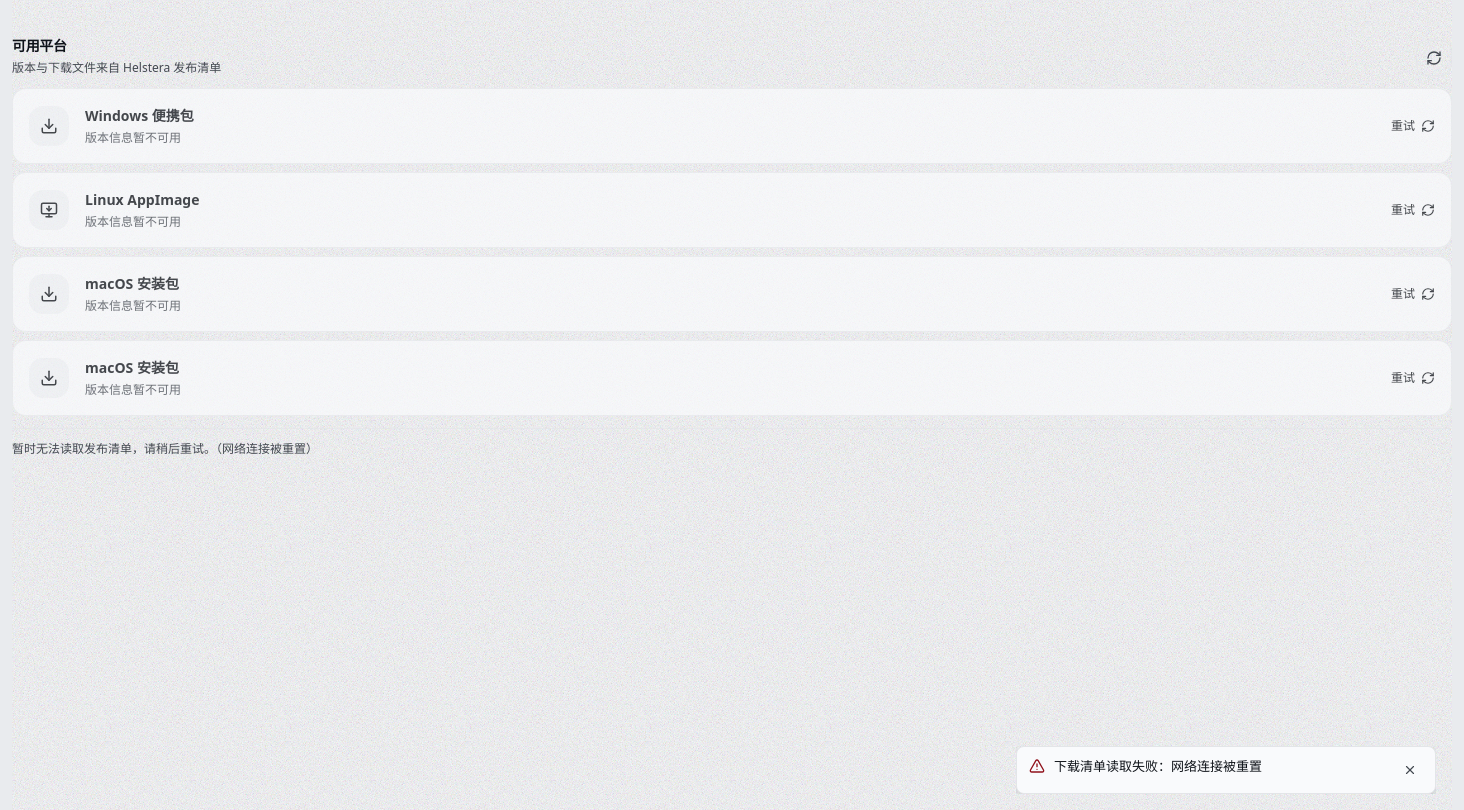
Test: DesktopDownloadList feedback › confirms with a success toast once a retried read actually completes
Check: the text "下载清单读取失败：网络连接被重置" is shown, box [1054,757,1262,775]
Click the button named "重新读取版本" at (1434, 58), box [1416,40,1452,76]
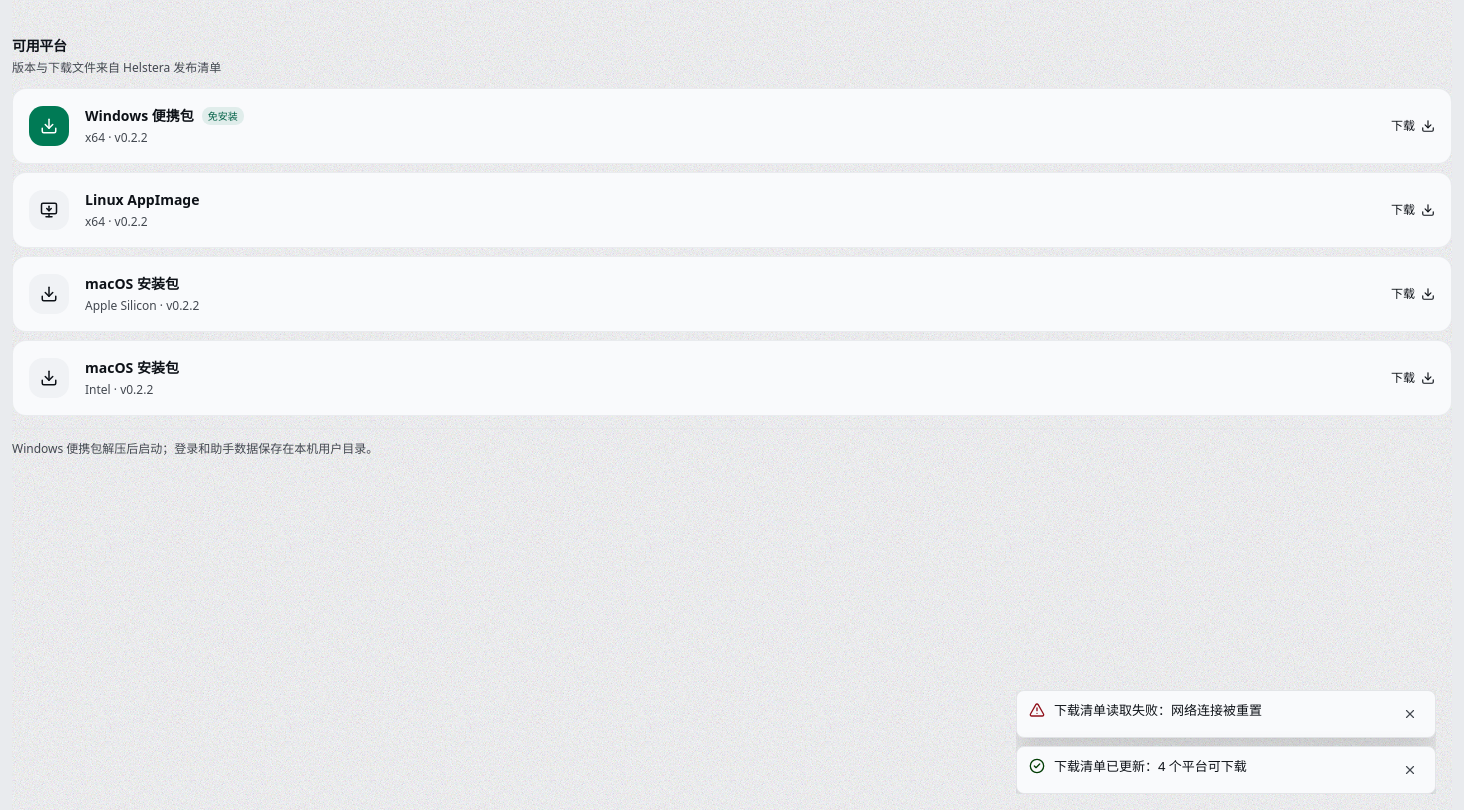
Check: the text "下载清单已更新：4 个平台可下载" is shown, box [1054,757,1247,775]
